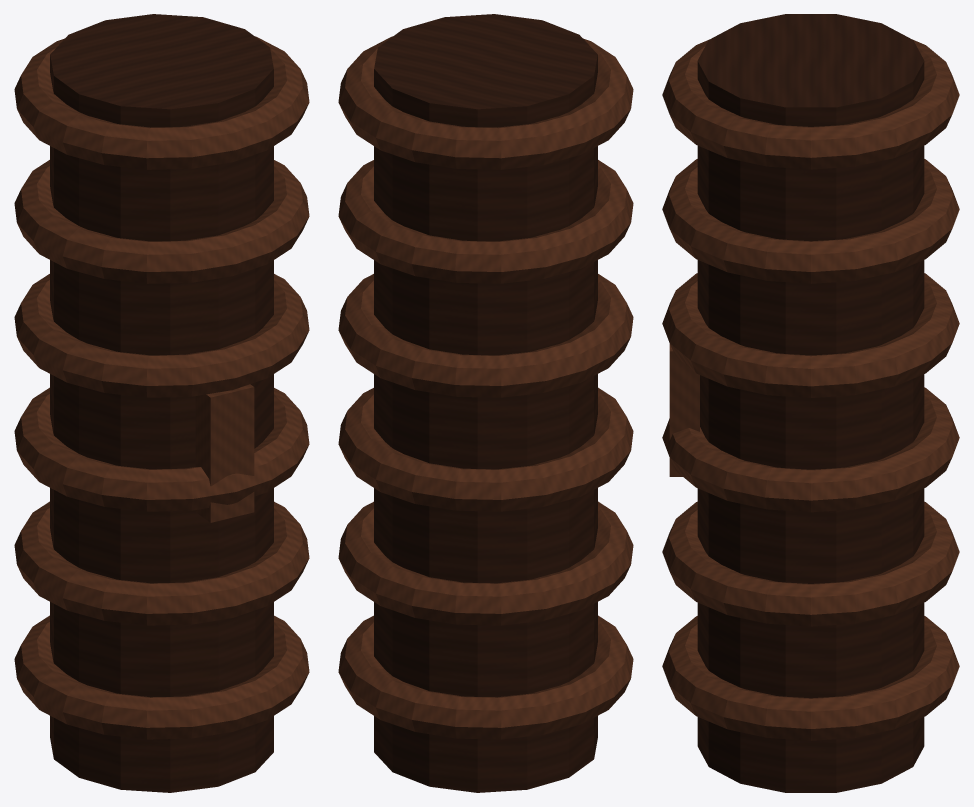
The model's file is underworld-refined-charred-root-grip.glb.
3 views of the same model, side by side, from view 1: azimuth 30°, elevation 25°; view 2: azimuth 150°, elevation 25°; view 3: azimuth 270°, elevation 25° (orthographic).
Visible parts, largest first — view 1: grip-core, grip-wrap-5, grip-wrap-3, grip-wrap-0, grip-wrap-4, grip-wrap-1, grip-wrap-2, index-key; view 2: grip-core, grip-wrap-5, grip-wrap-3, grip-wrap-0, grip-wrap-4, grip-wrap-1, grip-wrap-2; view 3: grip-core, grip-wrap-5, grip-wrap-1, grip-wrap-0, grip-wrap-4, grip-wrap-3, grip-wrap-2, index-key.
Boxes of the visible parts, x1,y1,x2,y2 form: grip-core: (50,14,273,792); grip-wrap-5: (14,36,309,169); grip-wrap-3: (14,274,309,397); grip-wrap-0: (14,615,309,739); grip-wrap-4: (14,160,309,283); grip-wrap-1: (14,501,309,625); grip-wrap-2: (14,387,309,511); index-key: (195,384,254,522); grip-core: (374,14,597,792); grip-wrap-5: (338,36,633,169); grip-wrap-3: (338,274,633,397); grip-wrap-0: (338,615,633,739); grip-wrap-4: (338,160,633,283); grip-wrap-1: (338,501,633,625); grip-wrap-2: (338,387,633,511); grip-core: (697,14,924,792); grip-wrap-5: (662,40,959,169); grip-wrap-1: (662,501,959,626); grip-wrap-0: (662,616,959,740); grip-wrap-4: (662,159,959,283); grip-wrap-3: (662,273,959,397); grip-wrap-2: (662,387,959,512); index-key: (669,344,699,476).
Size of the model in its own units: 0.118 by 0.3 by 0.118.
Materials: 2 (2 with a texture image).
